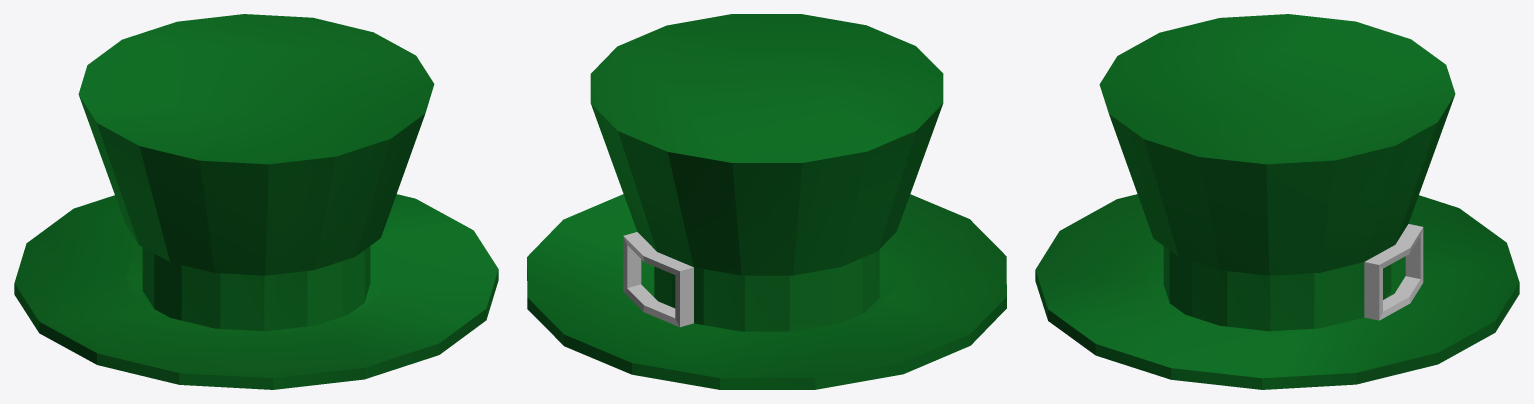
The model's file is LEPRECHAUN HAT.fbx.
3 renders of one model, left to right at view 1: azimuth 30°, elevation 25°; view 2: azimuth 150°, elevation 25°; view 3: azimuth 270°, elevation 25°, orthographic.
Parts seen in each view (by area): view 1: LEPRECHAUN_HAT; view 2: LEPRECHAUN_HAT; view 3: LEPRECHAUN_HAT.
Boxes of the visible parts, <box> form: LEPRECHAUN_HAT: <box>14,14,498,389</box>; LEPRECHAUN_HAT: <box>527,14,1006,389</box>; LEPRECHAUN_HAT: <box>1035,14,1519,389</box>.
Bounding box in the file's own units: 45.56 × 20.61 × 45.56.
